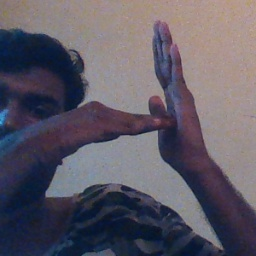Z: (90, 20, 212, 172)
